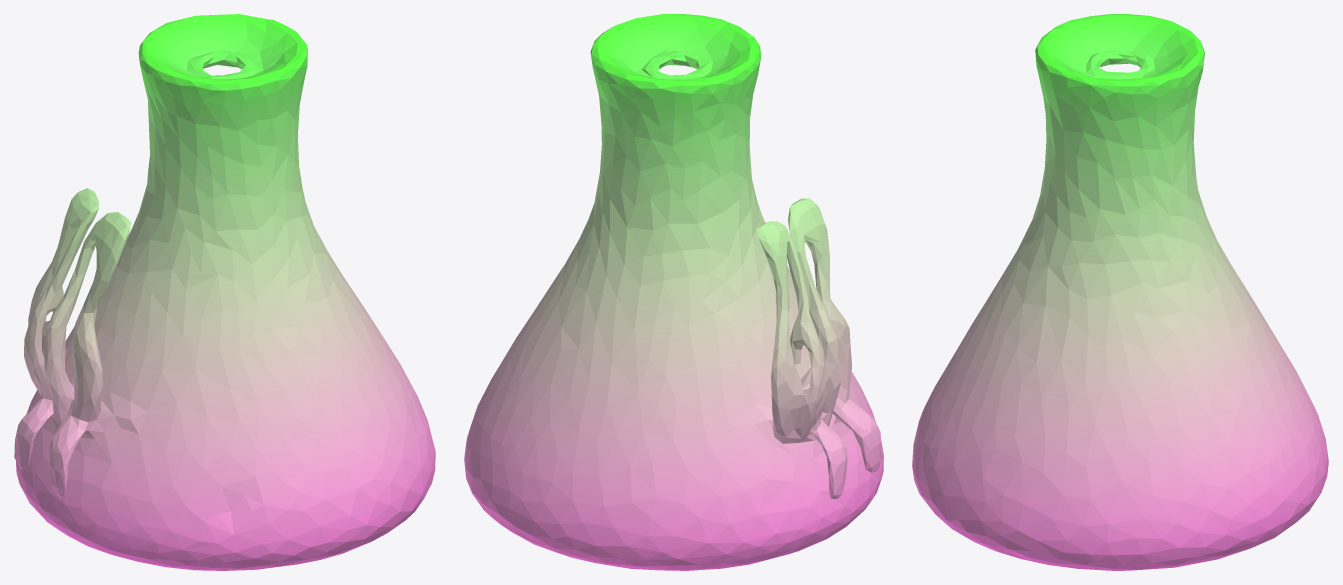
File: 112_cyb_laser_gradient_fish_scales_2793_2026_10_03_8e672c.glb
The picture shows the model from 3 angles, left to right: view 1: azimuth 30°, elevation 25°; view 2: azimuth 150°, elevation 25°; view 3: azimuth 270°, elevation 25°; orthographic projection.
Parts seen in each view (by area): view 1: geometry_0; view 2: geometry_0; view 3: geometry_0.
Boxes of the visible parts, x1,y1,x2,y2 form: geometry_0: (14,14,435,570); geometry_0: (464,14,883,570); geometry_0: (912,14,1328,570).
Size of the model in its own units: 0.6675 by 0.7936 by 0.6545.
